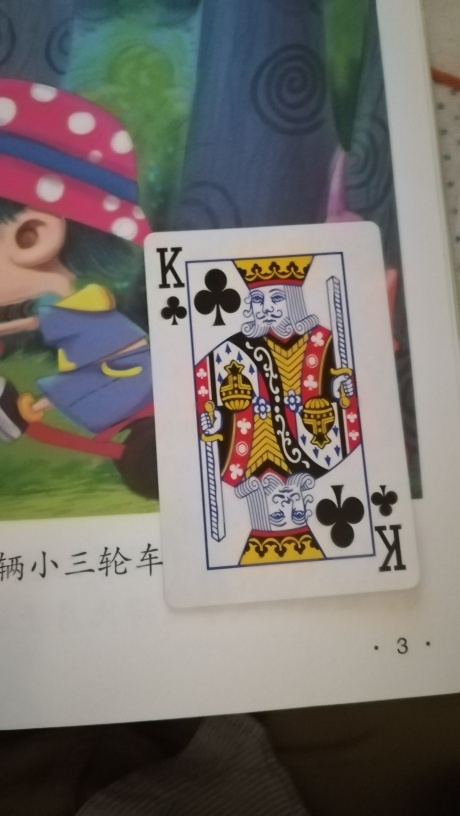mh k: (142, 219, 420, 605)
